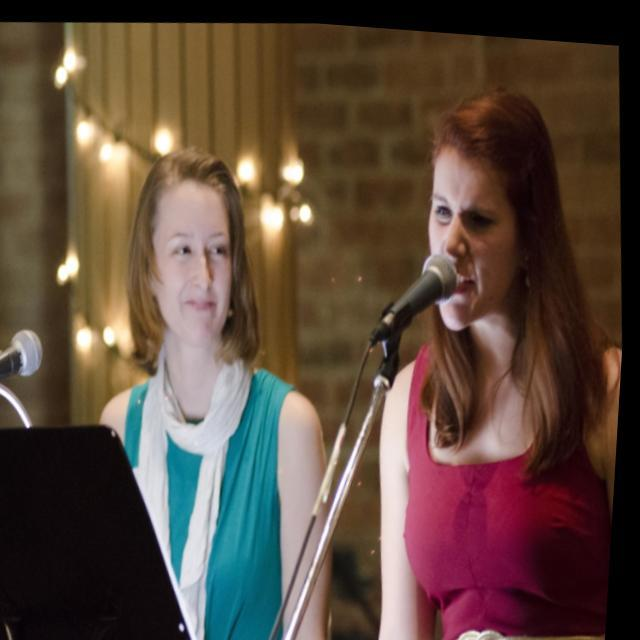Nonhelmet: (409, 76, 567, 345), (123, 144, 262, 372)
